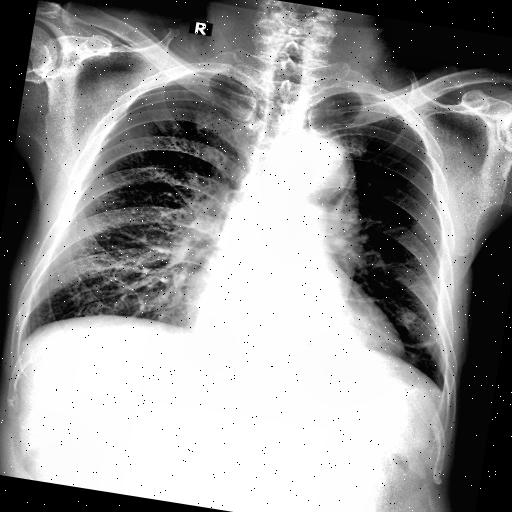0- Aortic enlargement: (278, 127, 374, 211), (276, 125, 370, 208), (272, 129, 362, 202)
10- Pleural effusion: (436, 381, 450, 399)
11- Pleural thickening: (436, 381, 450, 399)
13- Pulmonary fibrosis: (105, 272, 149, 319), (402, 328, 446, 354), (410, 324, 443, 349)
3- Cardiomegaly: (176, 275, 407, 373)
7- Lung Opacity: (392, 307, 418, 328), (392, 308, 416, 328)
9- Other lesion: (392, 308, 416, 328)
